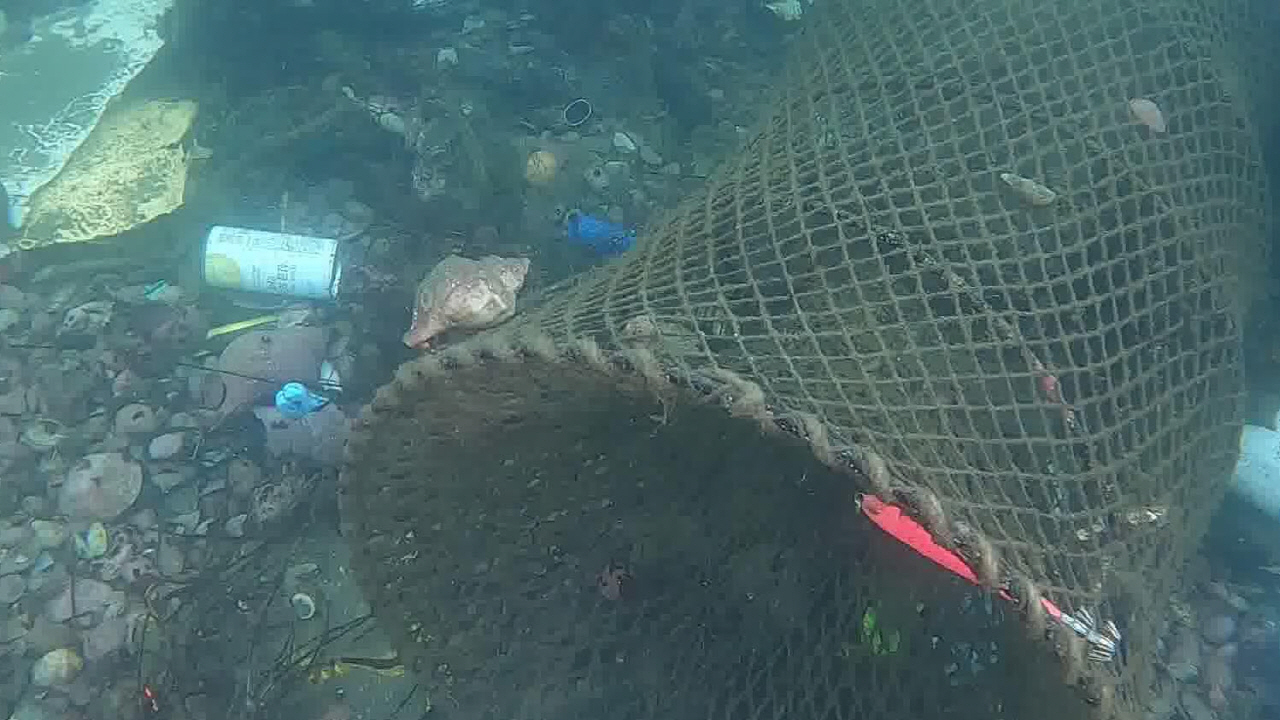spring fish trap: (334, 0, 1280, 720)
